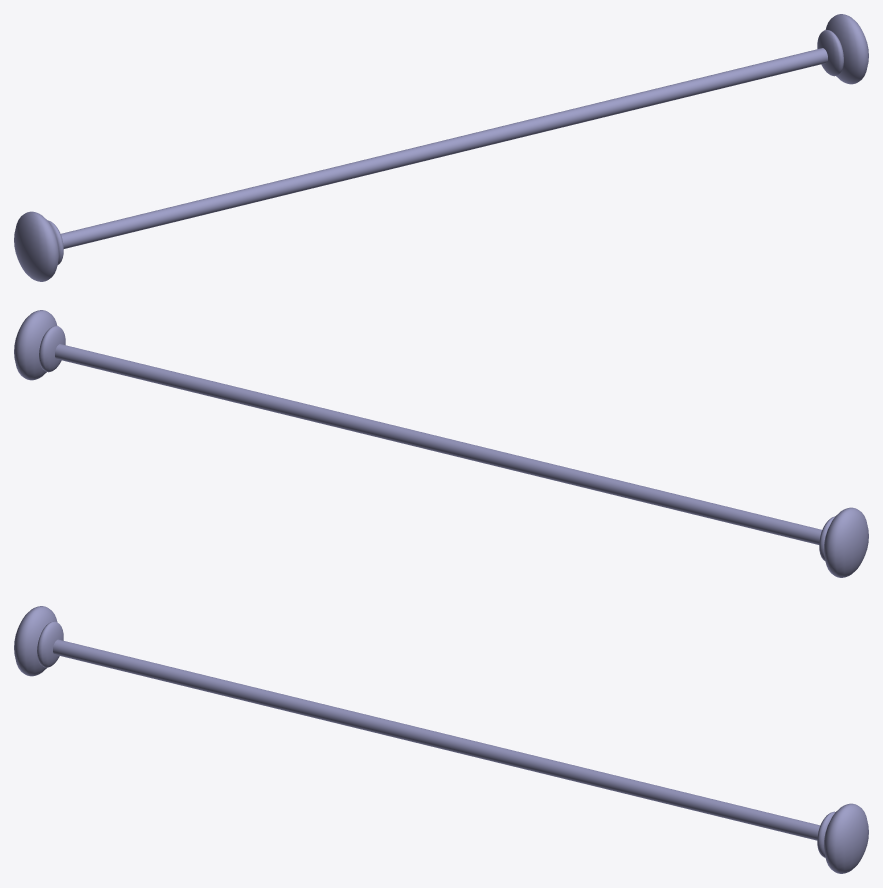
Rendered from Tringle.fbx.
3 views of the same model, one above another, from view 1: azimuth 30°, elevation 25°; view 2: azimuth 150°, elevation 25°; view 3: azimuth 330°, elevation 25° (orthographic).
Parts seen in each view (by area): view 1: extrudedSurface3; view 2: extrudedSurface3; view 3: extrudedSurface3.
Boxes of the visible parts, box(x1,y1,x2,y2) form: extrudedSurface3: box(14, 14, 868, 281); extrudedSurface3: box(14, 310, 868, 577); extrudedSurface3: box(14, 606, 868, 873).
Size of the model in its own units: 12.2 by 0.9066 by 0.8858.
